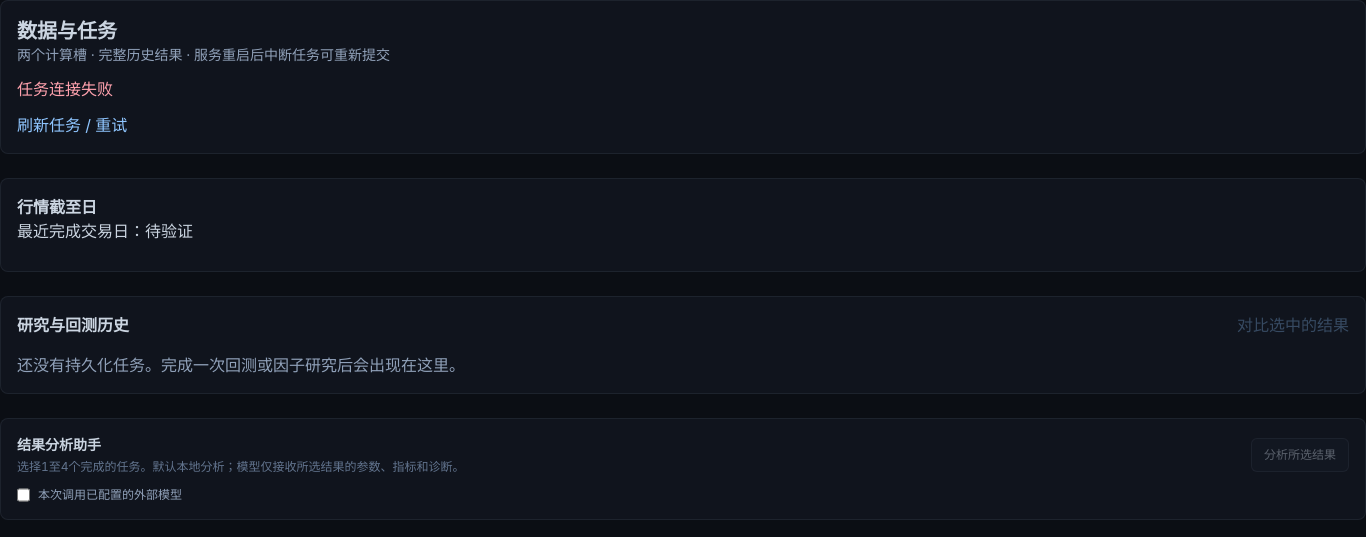
it: reliable research UI › shows a failed fetch and retries task loading
Expected: the message reads "任务连接失败", [17,79,113,99]
Click the button "刷新任务 / 重试": [72, 125] box [17,113,127,137]
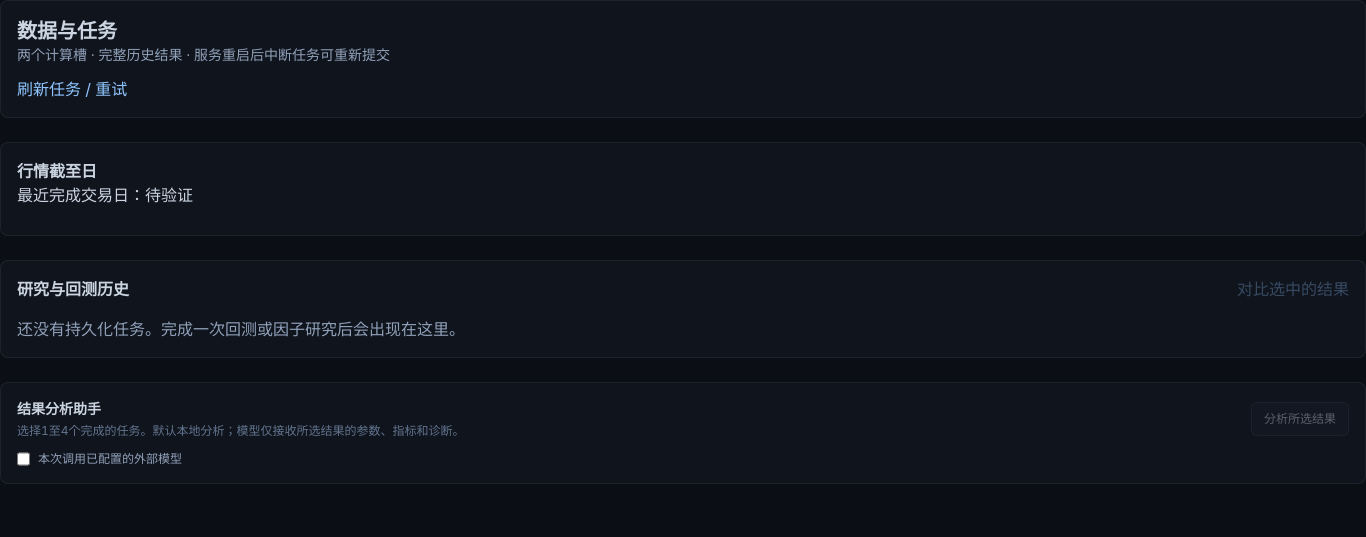
Expected: the message "任务连接失败" is gone
